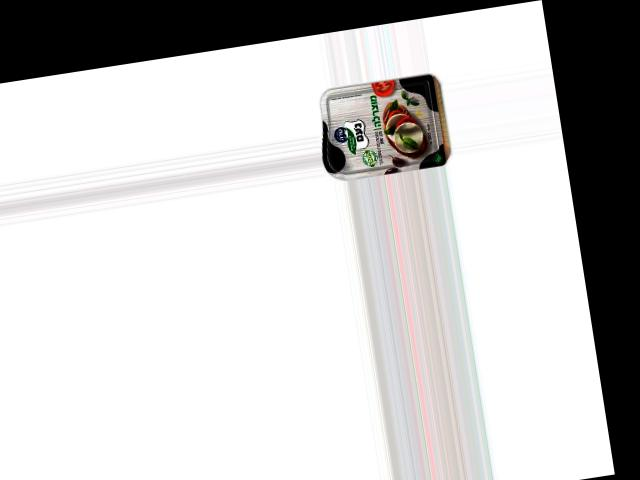cheese: (314, 72, 447, 183)
